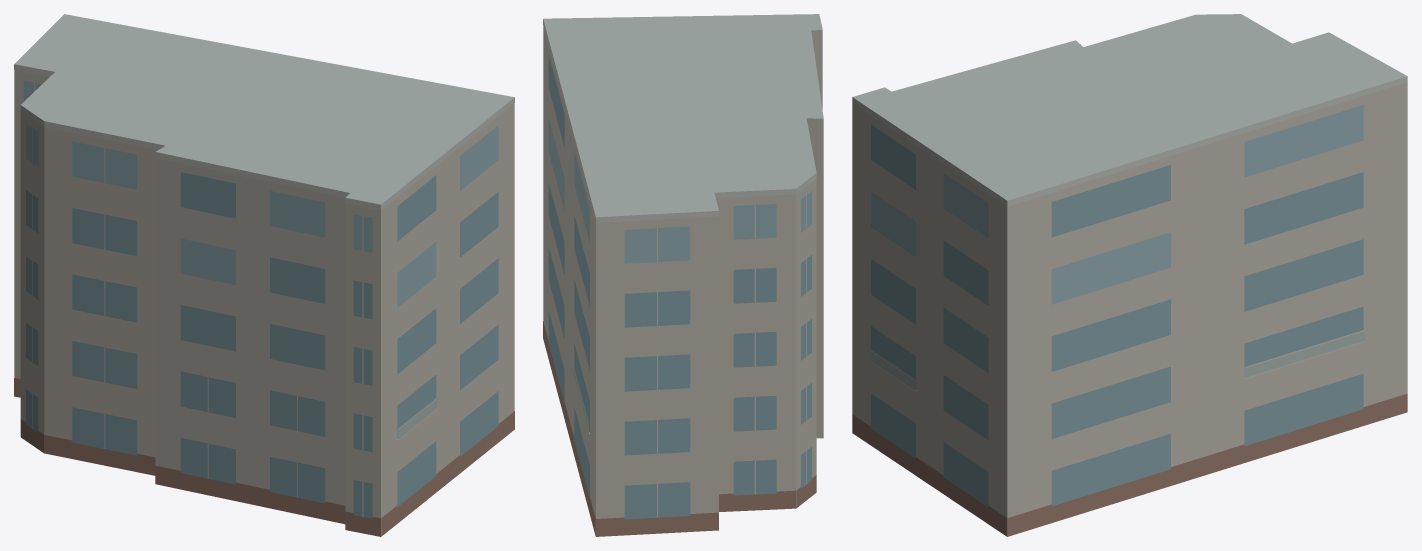
Rendered from survey-upis-32934886.glb.
The picture shows the model from 3 angles, left to right: view 1: azimuth 30°, elevation 25°; view 2: azimuth 150°, elevation 25°; view 3: azimuth 270°, elevation 25°; orthographic projection. The views are drawn at different scales.
Visible parts, largest first — view 1: survey-upis-32934886.tmp; view 2: survey-upis-32934886.tmp; view 3: survey-upis-32934886.tmp.
Boxes of the visible parts, x1=… form: survey-upis-32934886.tmp: x1=14, y1=14, x2=514, y2=536; survey-upis-32934886.tmp: x1=543, y1=14, x2=823, y2=536; survey-upis-32934886.tmp: x1=852, y1=14, x2=1407, y2=536.
Size of the model in its own units: 16.7 by 14 by 20.98.
